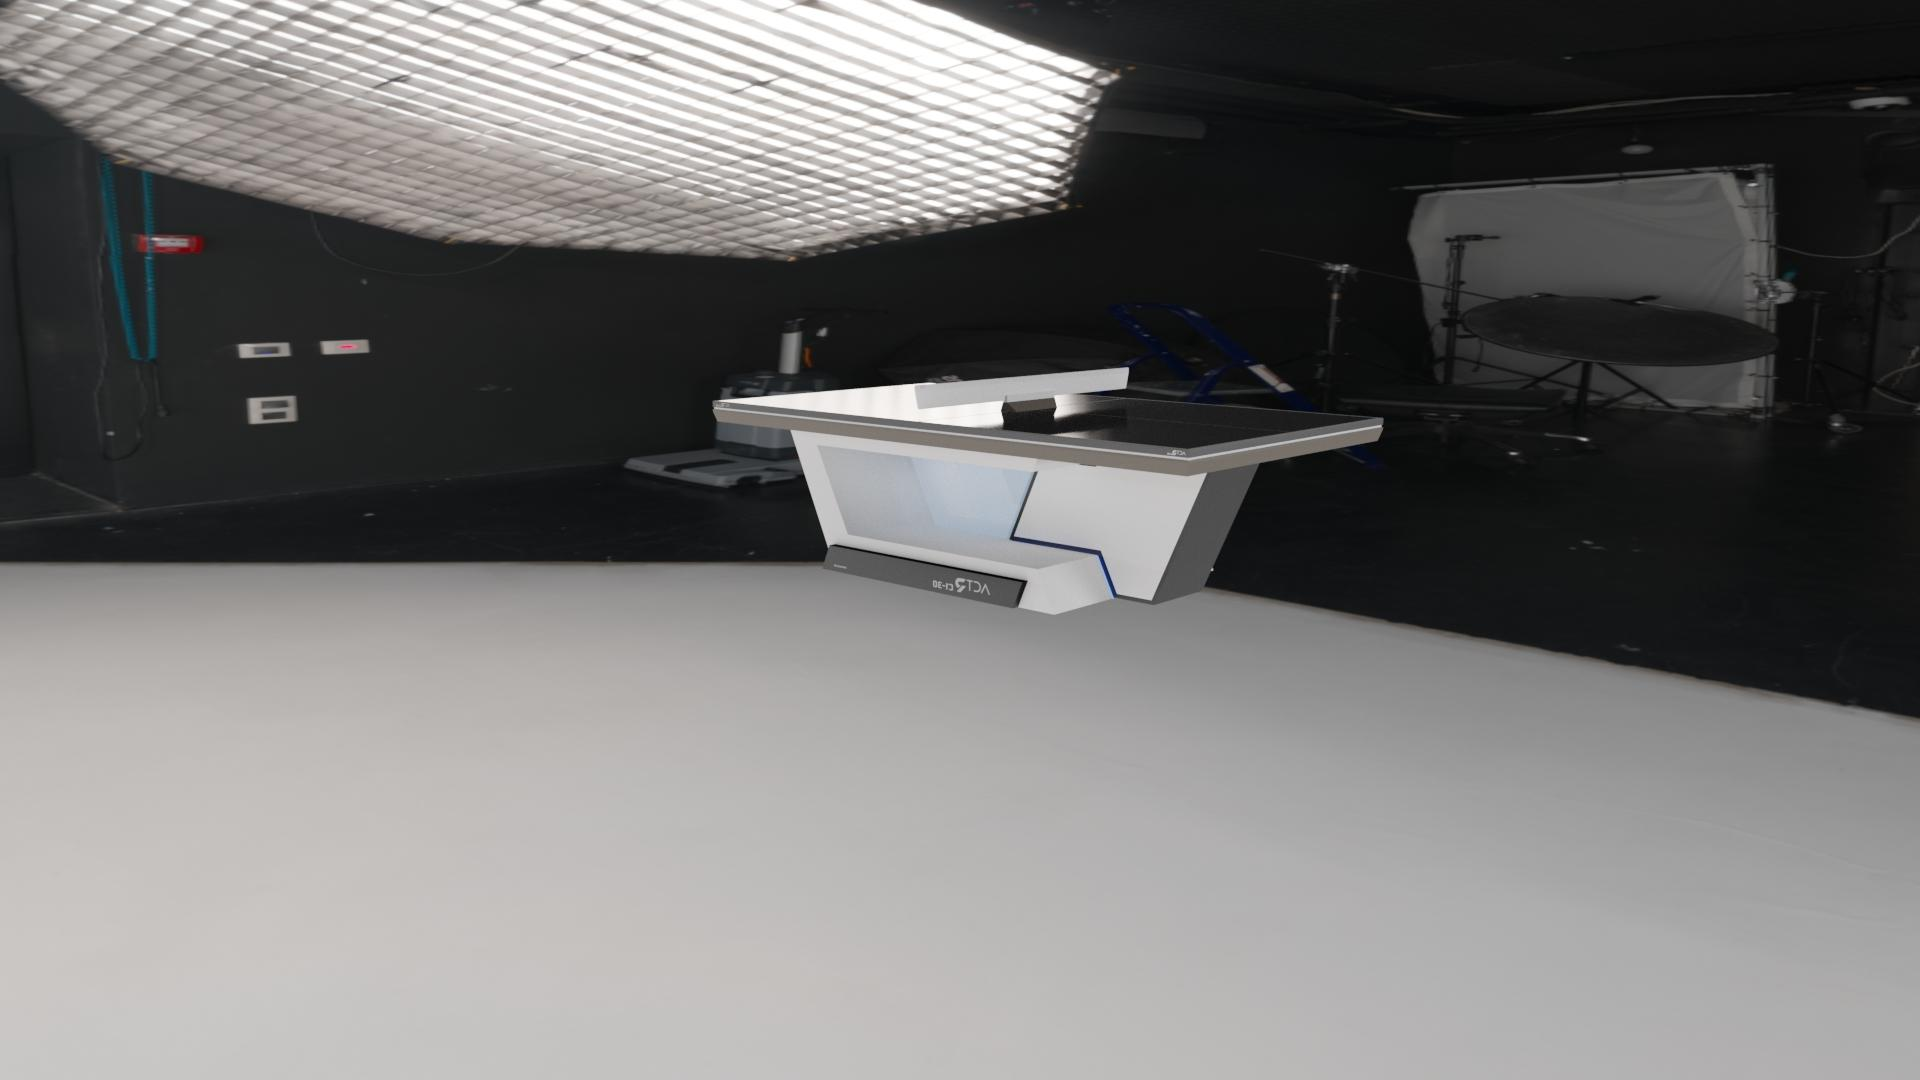table: (719, 384, 1377, 448)
